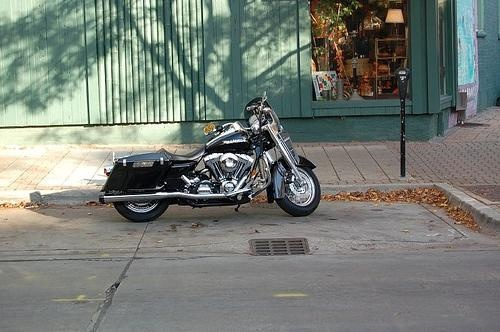motorbike: (100, 92, 323, 222)
